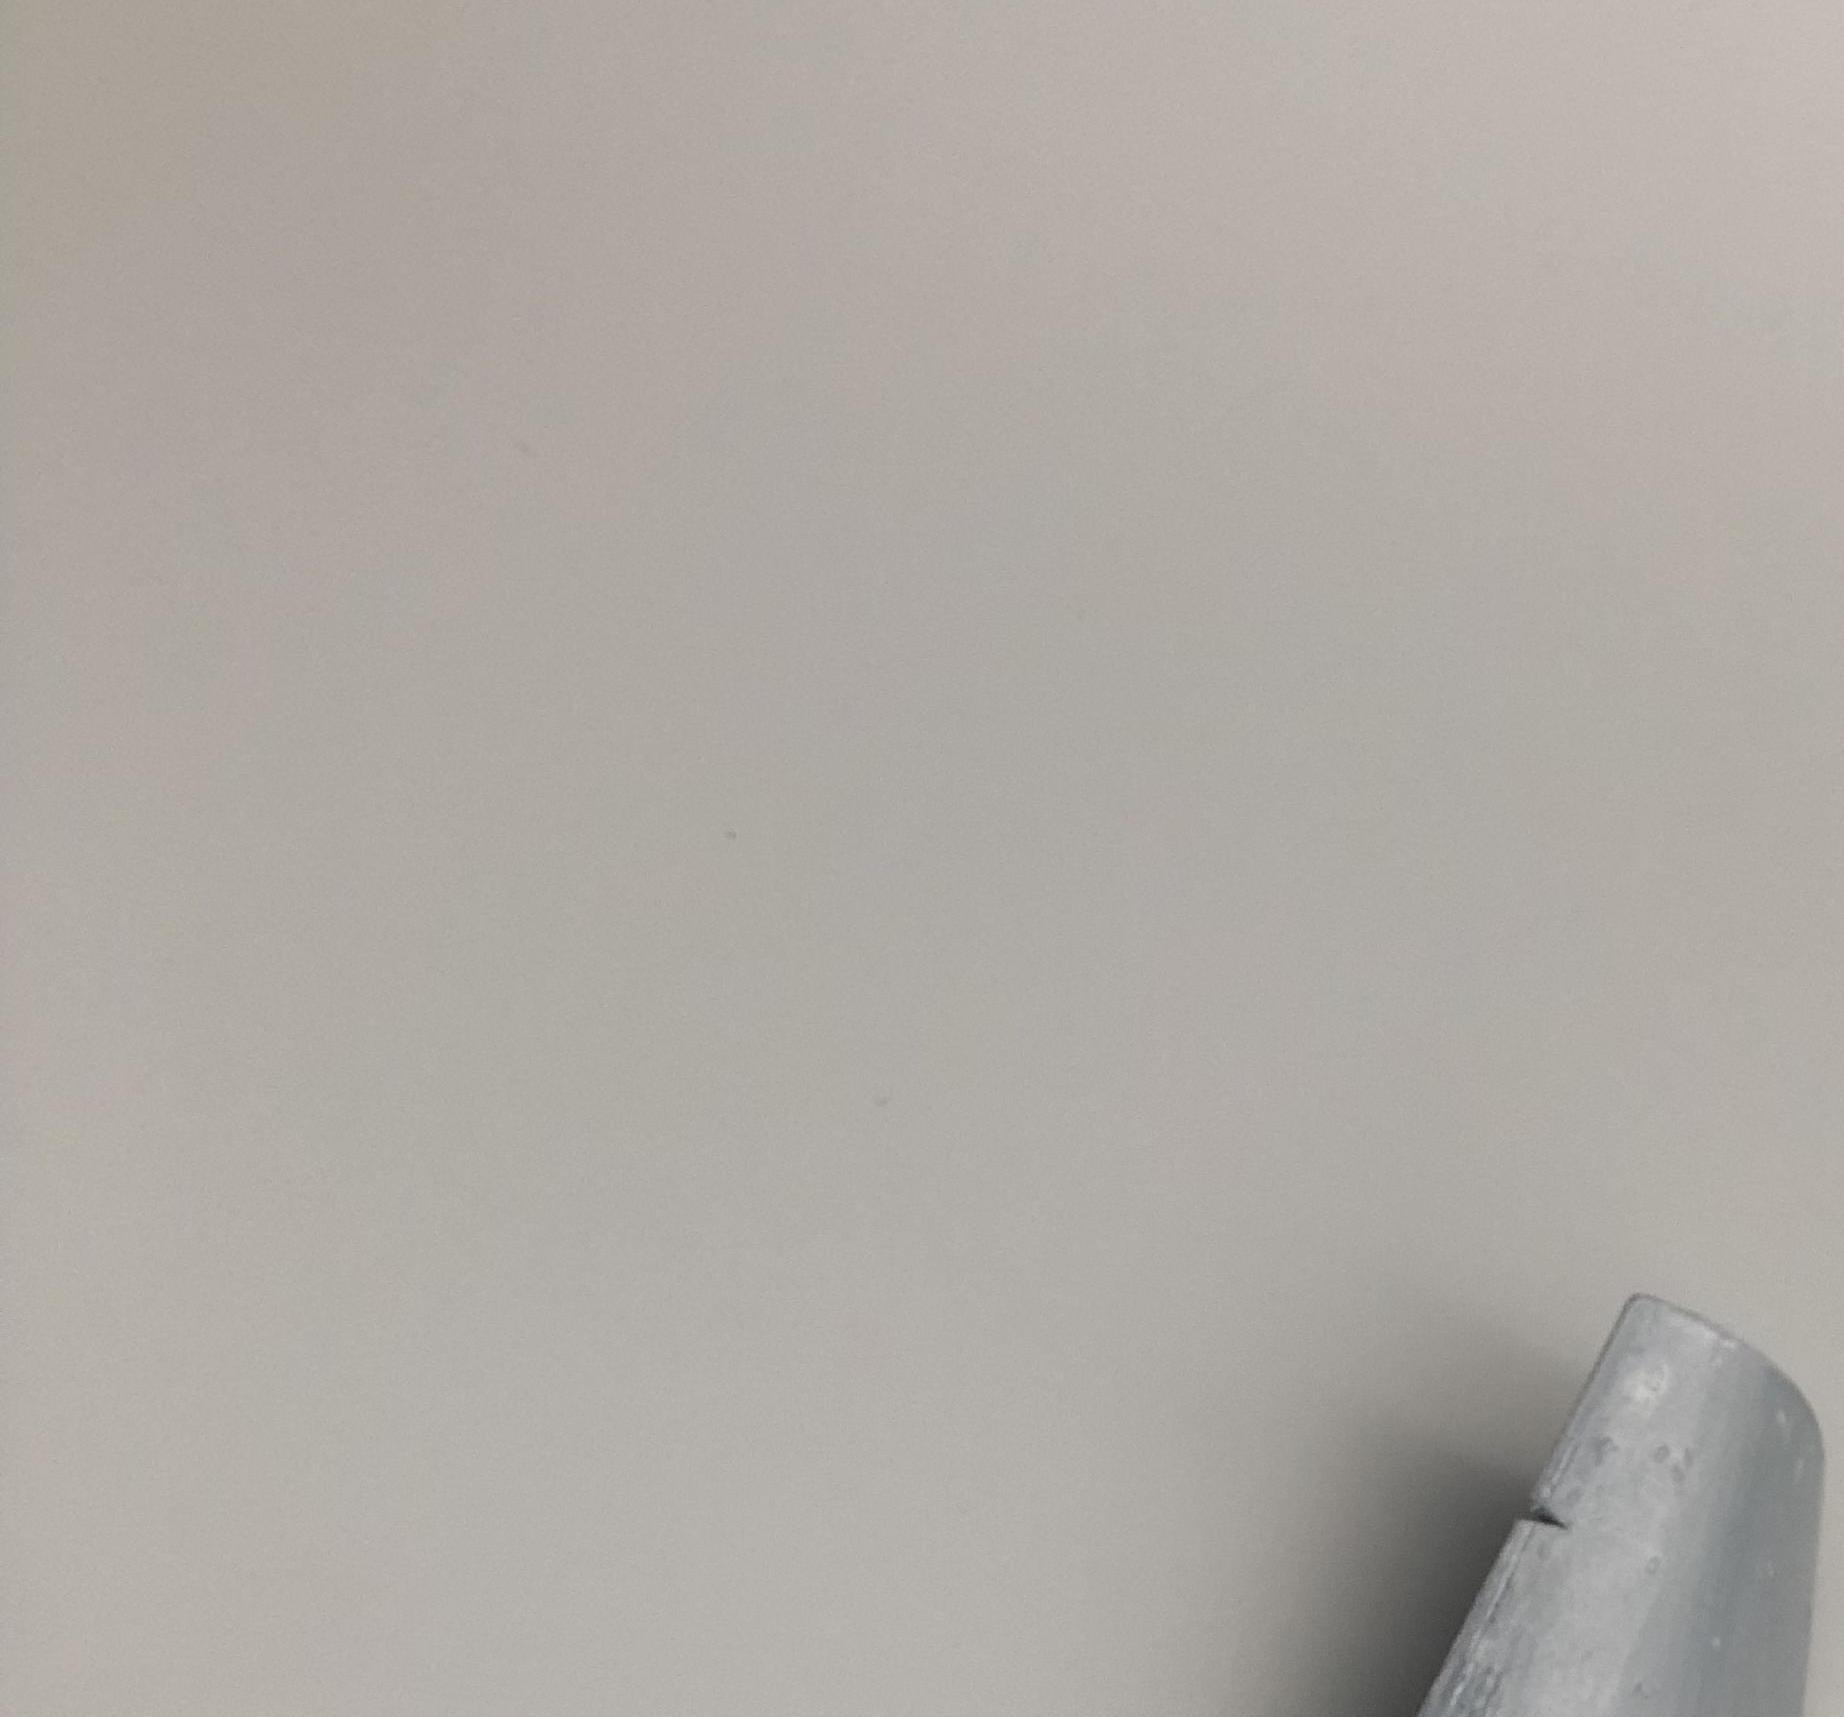groove: (1513, 1486, 1576, 1538)
